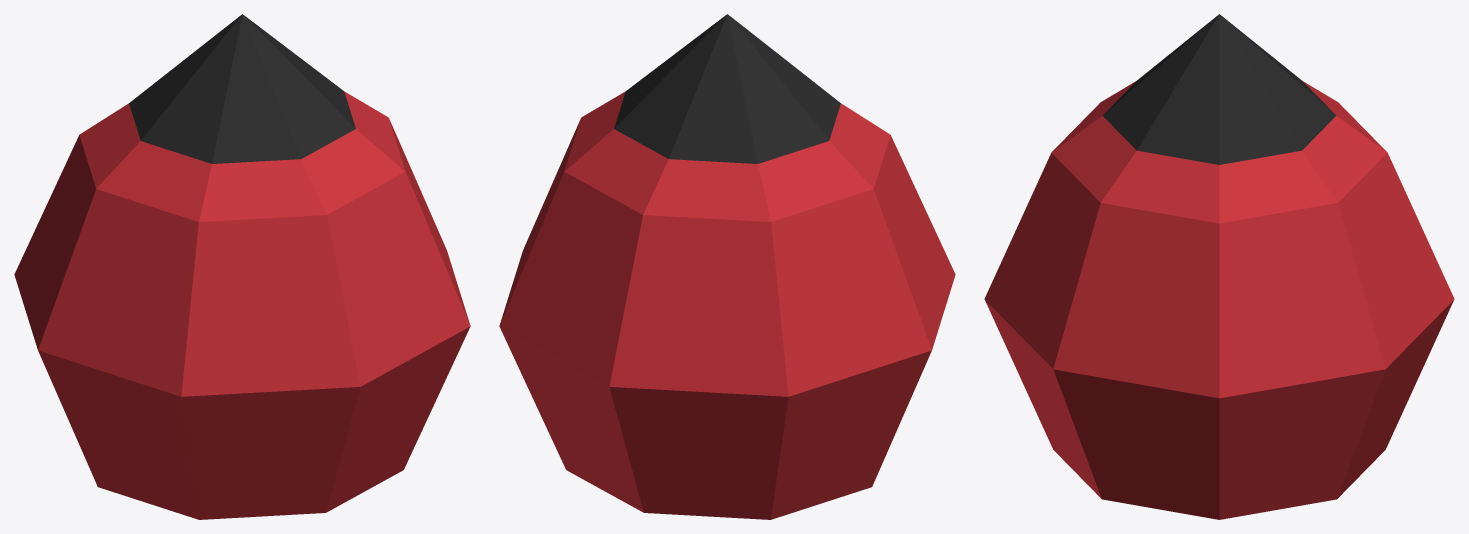
The model's file is beach_buoy.fbx.
3 renders of one model, left to right at view 1: azimuth 30°, elevation 25°; view 2: azimuth 150°, elevation 25°; view 3: azimuth 270°, elevation 25°, orthographic.
Visible parts, largest first — view 1: beach_buoy; view 2: beach_buoy; view 3: beach_buoy.
Boxes of the visible parts, bbox=[...] form: beach_buoy: bbox=[14, 14, 470, 519]; beach_buoy: bbox=[499, 14, 955, 519]; beach_buoy: bbox=[984, 14, 1454, 519].
Size of the model in its own units: 171 by 200 by 171.
